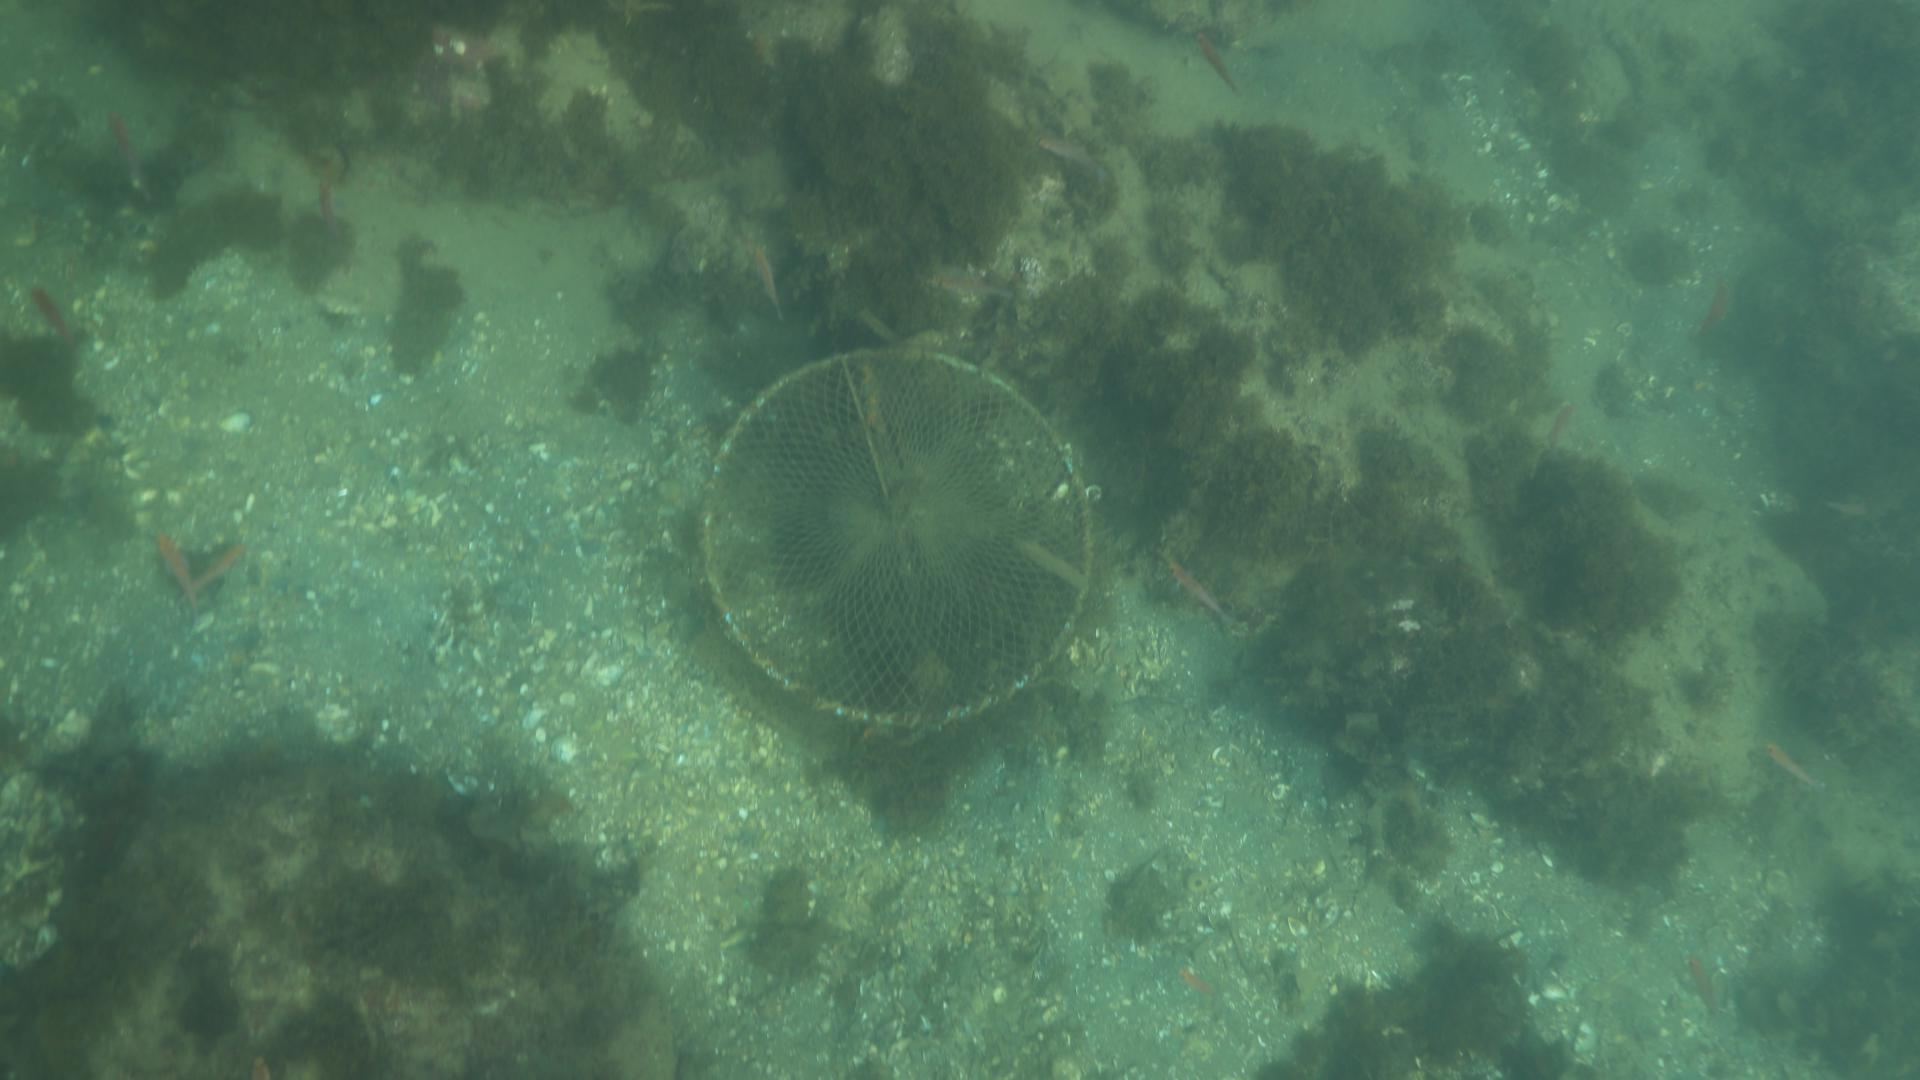circular fish trap: (691, 344, 1093, 729)
